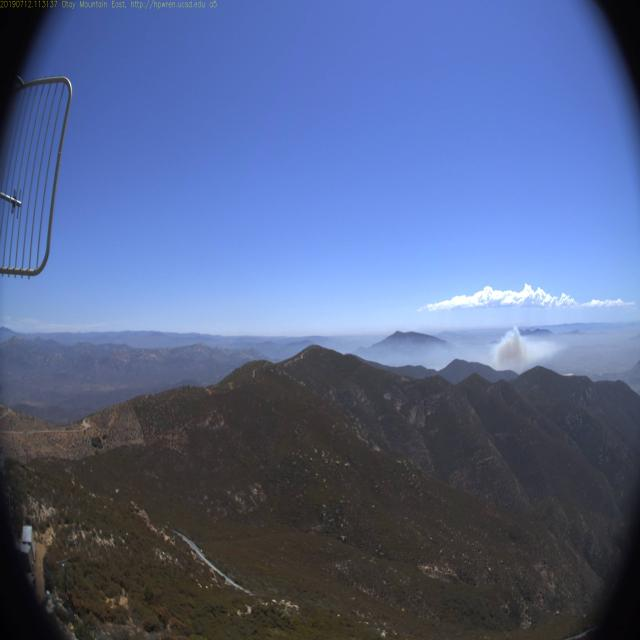smoke: (482, 299, 570, 398)
